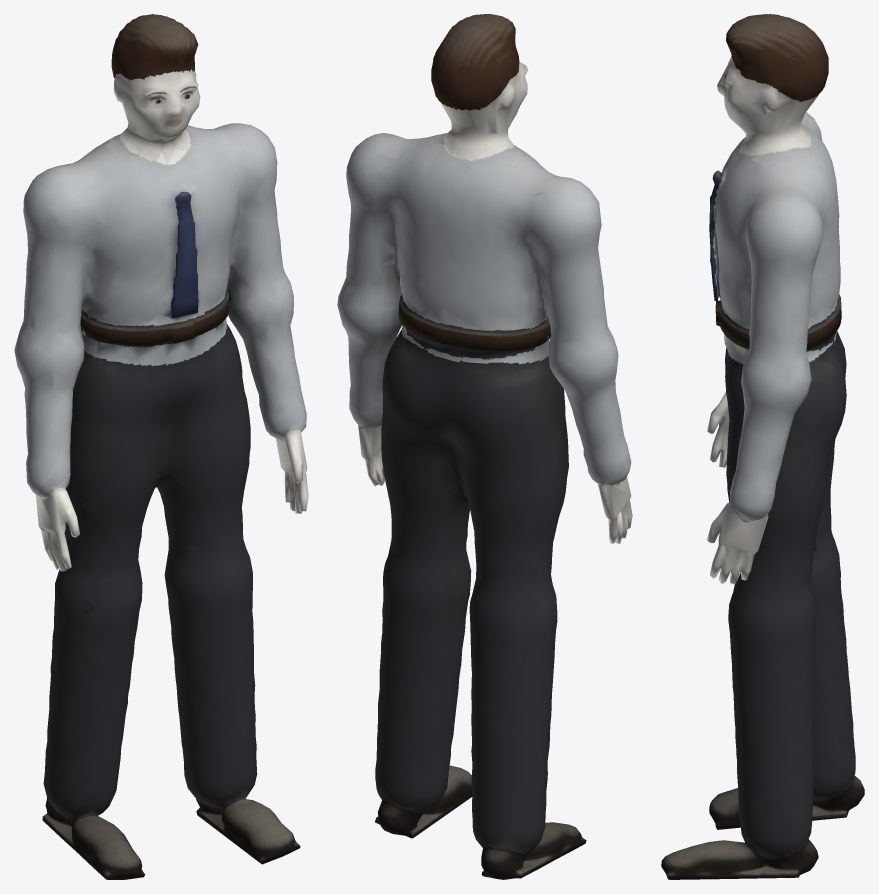
File: mq_man_suit.glb
3 renders of one model, left to right at view 1: azimuth 30°, elevation 25°; view 2: azimuth 150°, elevation 25°; view 3: azimuth 270°, elevation 25°, orthographic.
Visible parts, largest first — view 1: mq_man_suit, mq_man_suit_head; view 2: mq_man_suit, mq_man_suit_head; view 3: mq_man_suit, mq_man_suit_head.
Part boxes in pixels (x1,y1,x2,y2): mq_man_suit: [14, 123, 308, 879]; mq_man_suit_head: [105, 14, 204, 164]; mq_man_suit: [337, 133, 632, 879]; mq_man_suit_head: [429, 14, 528, 162]; mq_man_suit: [661, 112, 864, 879]; mq_man_suit_head: [717, 14, 828, 167].
Size of the model in its own units: 0.6235 by 1.8 by 0.3978.
Materials: 1 (1 with a texture image).
